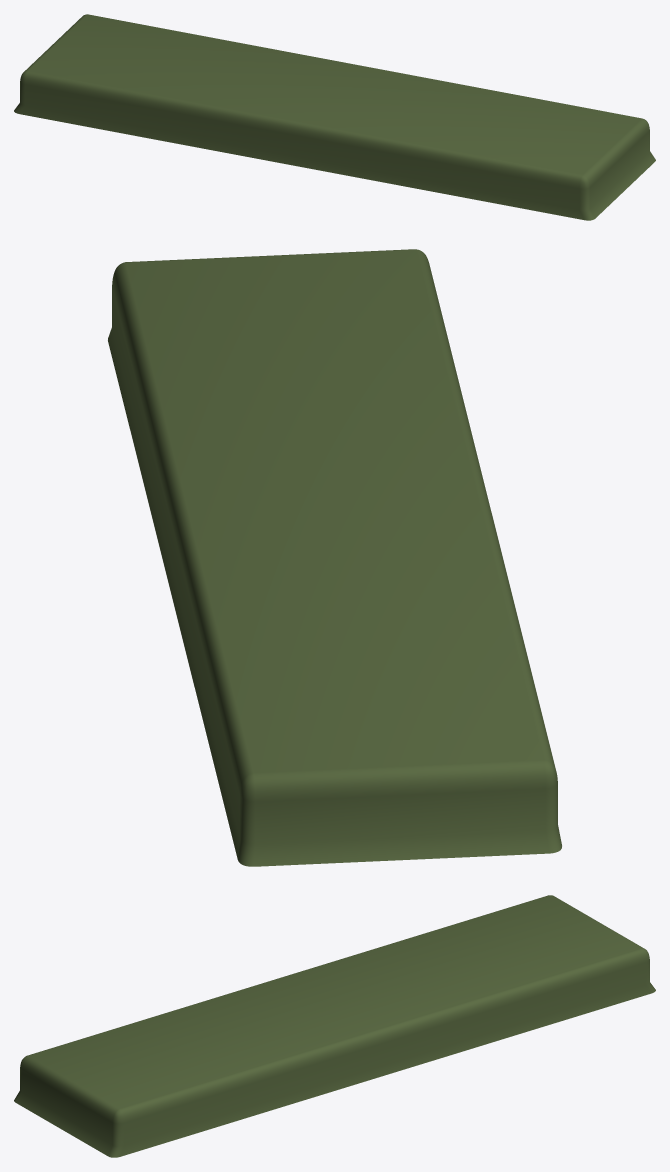
File: Turbine Stand.FBX
3 renders of one model, top to bottom at view 1: azimuth 30°, elevation 25°; view 2: azimuth 150°, elevation 25°; view 3: azimuth 270°, elevation 25°, orthographic. The views are drawn at different scales.
Parts seen in each view (by area): view 1: Object003; view 2: Object003; view 3: Object003.
Boxes of the visible parts, left/top/right/bottom form: Object003: left=14, top=14, right=655, bottom=220; Object003: left=108, top=249, right=561, bottom=866; Object003: left=14, top=895, right=655, bottom=1157.
Bounding box in the file's own units: 341 × 30.8 × 413.
